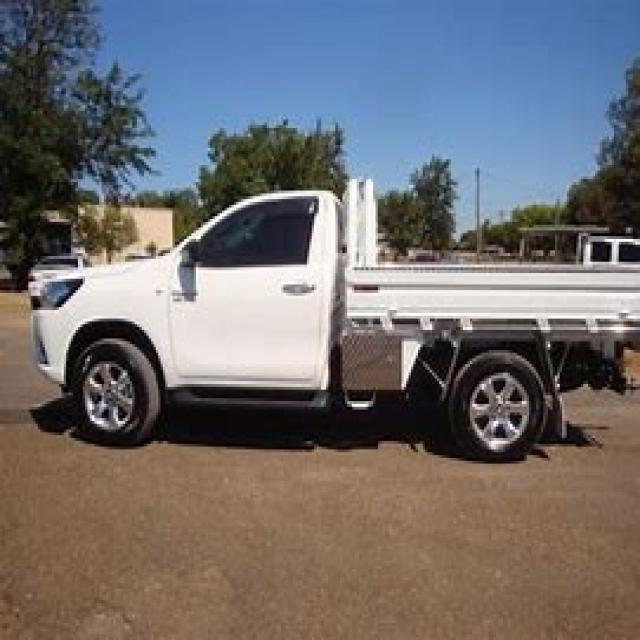light_vehicle: (21, 171, 638, 469)
